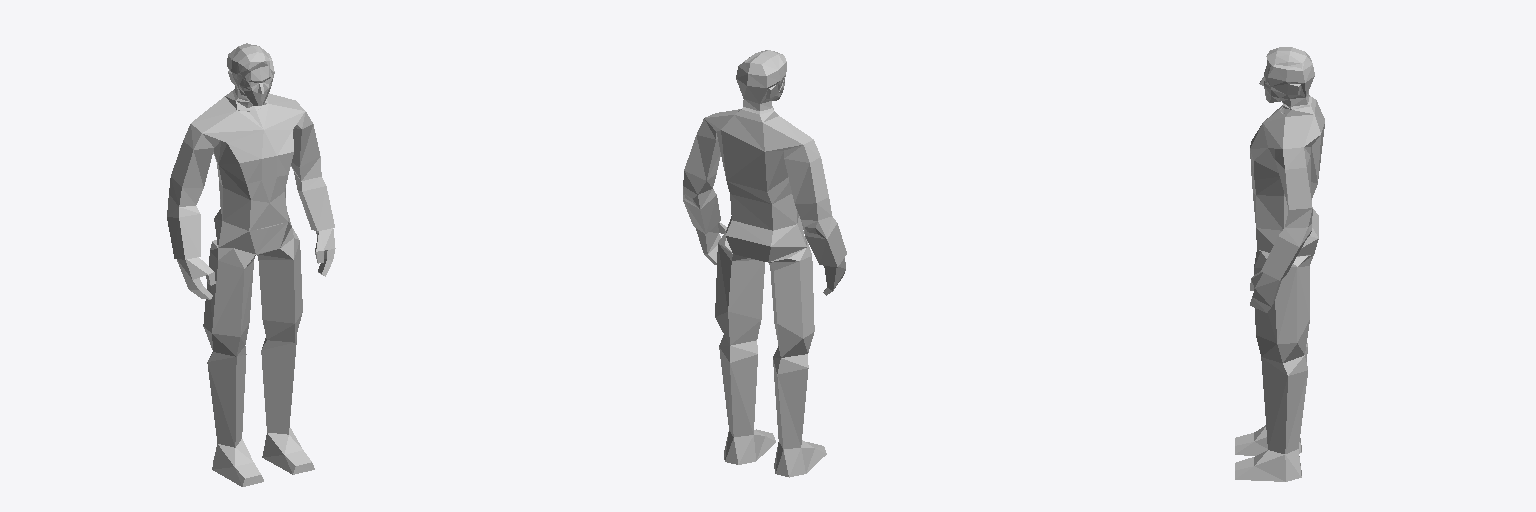
The model's file is Manuel83.obj.
3 renders of one model, left to right at view 1: azimuth 30°, elevation 25°; view 2: azimuth 150°, elevation 25°; view 3: azimuth 270°, elevation 25°, orthographic.
Parts seen in each view (by area): view 1: leon; view 2: leon; view 3: leon.
Part boxes in pixels (bbox=[...]): leon: bbox=[167, 43, 335, 486]; leon: bbox=[683, 50, 846, 477]; leon: bbox=[1235, 47, 1324, 481].
Bounding box in the file's own units: 4.68 × 12.19 × 2.44.